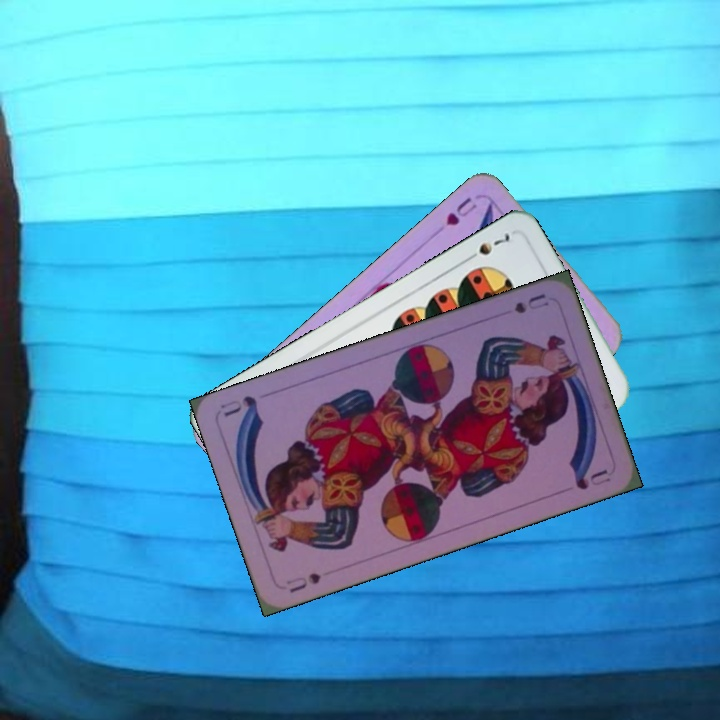HU: (442, 193, 480, 229)
S7: (461, 229, 513, 264)
SU: (282, 568, 323, 596), (510, 289, 552, 316)
